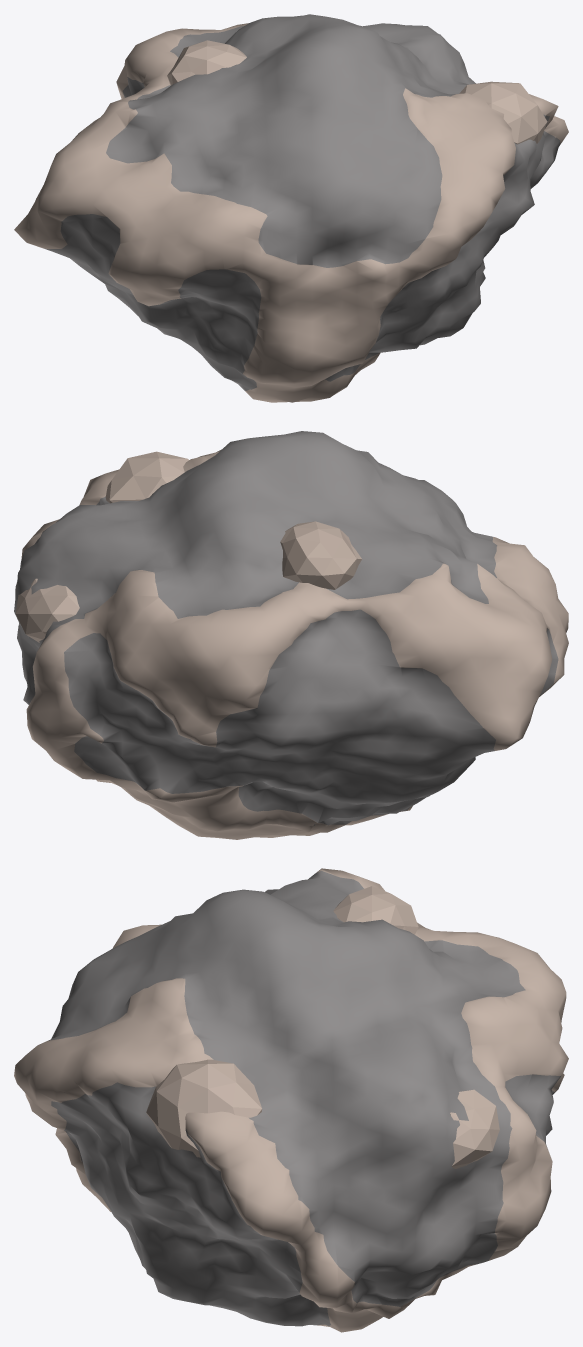
The model's file is iron_surface.glb.
3 renders of one model, top to bottom at view 1: azimuth 30°, elevation 25°; view 2: azimuth 150°, elevation 25°; view 3: azimuth 270°, elevation 25°, orthographic. The views are drawn at different scales.
Parts seen in each view (by area): view 1: iron_surface; view 2: iron_surface; view 3: iron_surface.
Boxes of the visible parts, bbox=[...] form: iron_surface: bbox=[14, 14, 568, 402]; iron_surface: bbox=[14, 431, 568, 839]; iron_surface: bbox=[14, 868, 568, 1332].
Size of the model in its own units: 1.15 by 0.7684 by 0.9294.
